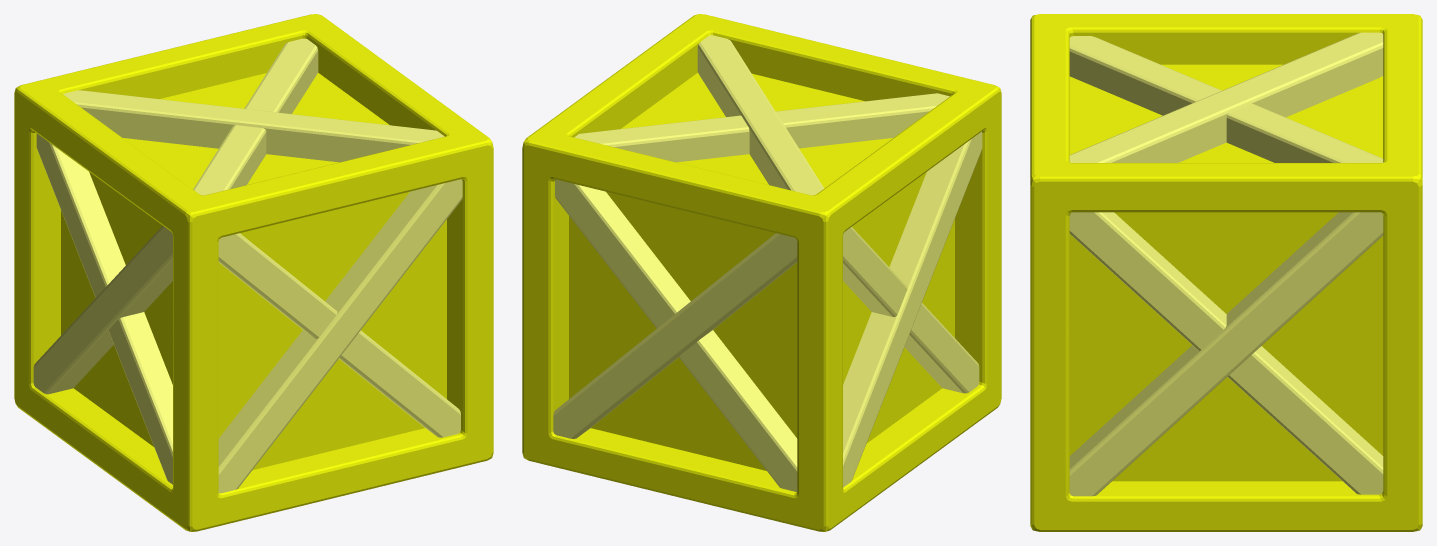
Rendered from Crate_Power_Supply.fbx.
The picture shows the model from 3 angles, left to right: view 1: azimuth 30°, elevation 25°; view 2: azimuth 150°, elevation 25°; view 3: azimuth 270°, elevation 25°; orthographic projection. The views are drawn at different scales.
Parts seen in each view (by area): view 1: Crate Power Supply; view 2: Crate Power Supply; view 3: Crate Power Supply.
Part boxes in pixels (x1,y1,x2,y2): Crate Power Supply: (14,14,493,531); Crate Power Supply: (522,14,1001,531); Crate Power Supply: (1030,14,1422,531).
Bounding box in the file's own units: 100 × 100 × 100.
